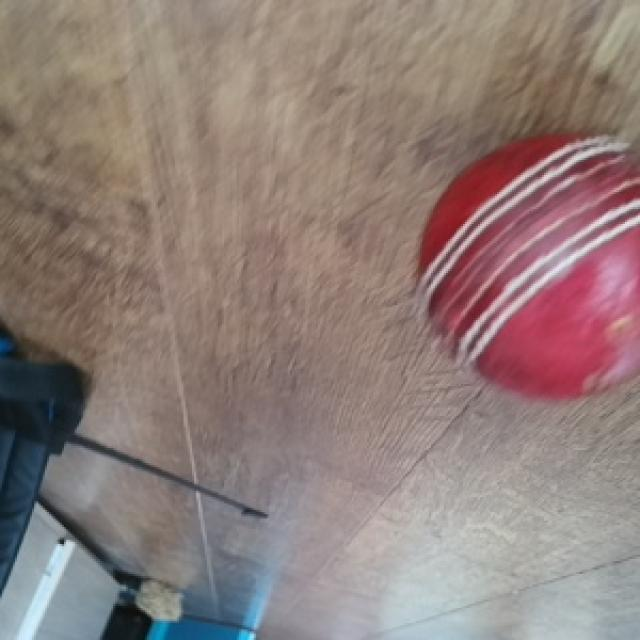ball: (416, 132, 640, 405)
